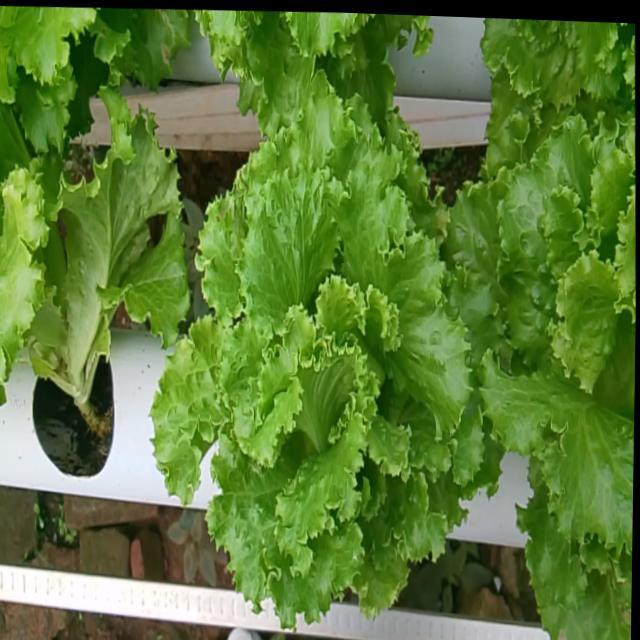Mature: (135, 92, 470, 631), (436, 117, 635, 562)
